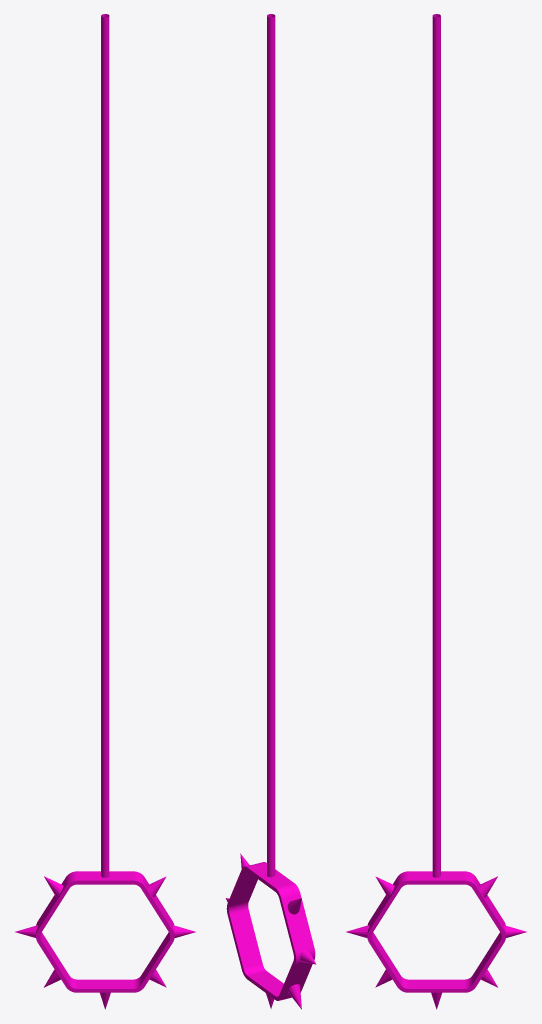
Rendered from cutter5_pencil.fbx.
3 views of the same model, side by side, from view 1: azimuth 90°, elevation 25°; view 2: azimuth 210°, elevation 25°; view 3: azimuth 270°, elevation 25° (orthographic).
Parts seen in each view (by area): view 1: Cutter5_Pencil; view 2: Cutter5_Pencil; view 3: Cutter5_Pencil.
Boxes of the visible parts, x1,y1,x2,y2 form: Cutter5_Pencil: (15, 14, 195, 1009); Cutter5_Pencil: (225, 14, 316, 1009); Cutter5_Pencil: (346, 14, 526, 1009).
Bounding box in the file's own units: 16.77 × 825 × 137.
